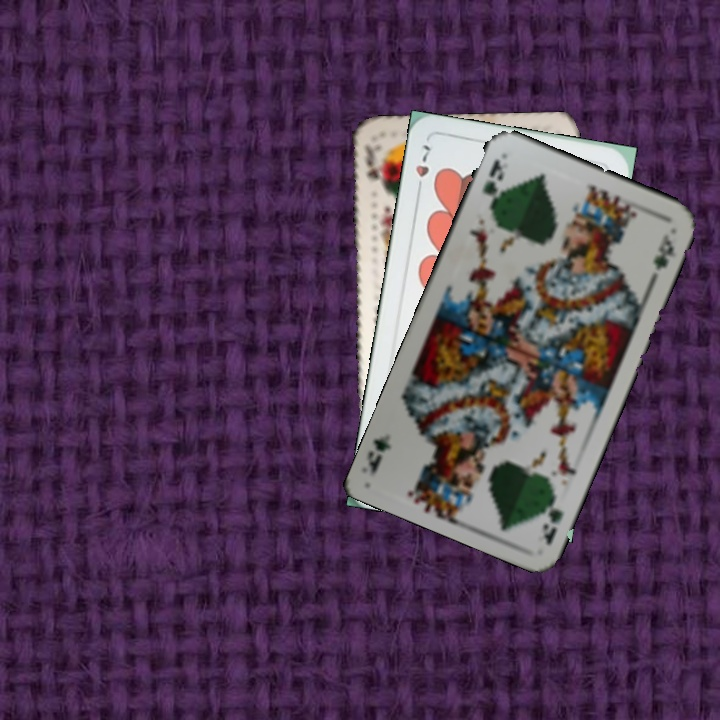GK: (478, 154, 507, 213), (538, 489, 566, 548)
H7: (411, 140, 433, 197)
SK: (360, 144, 387, 195)
